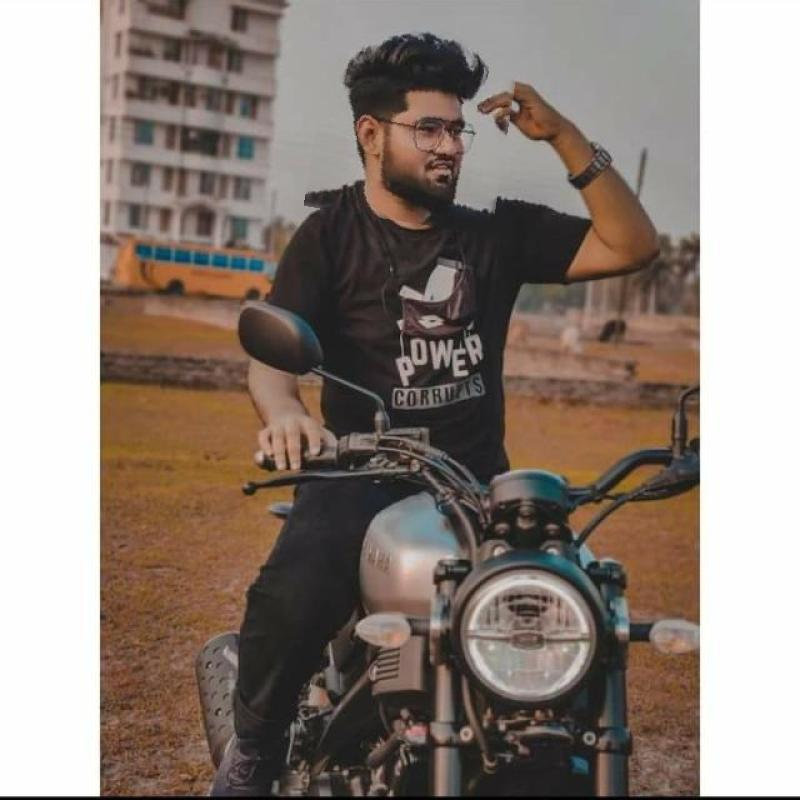nohelmet: (312, 22, 514, 228)
